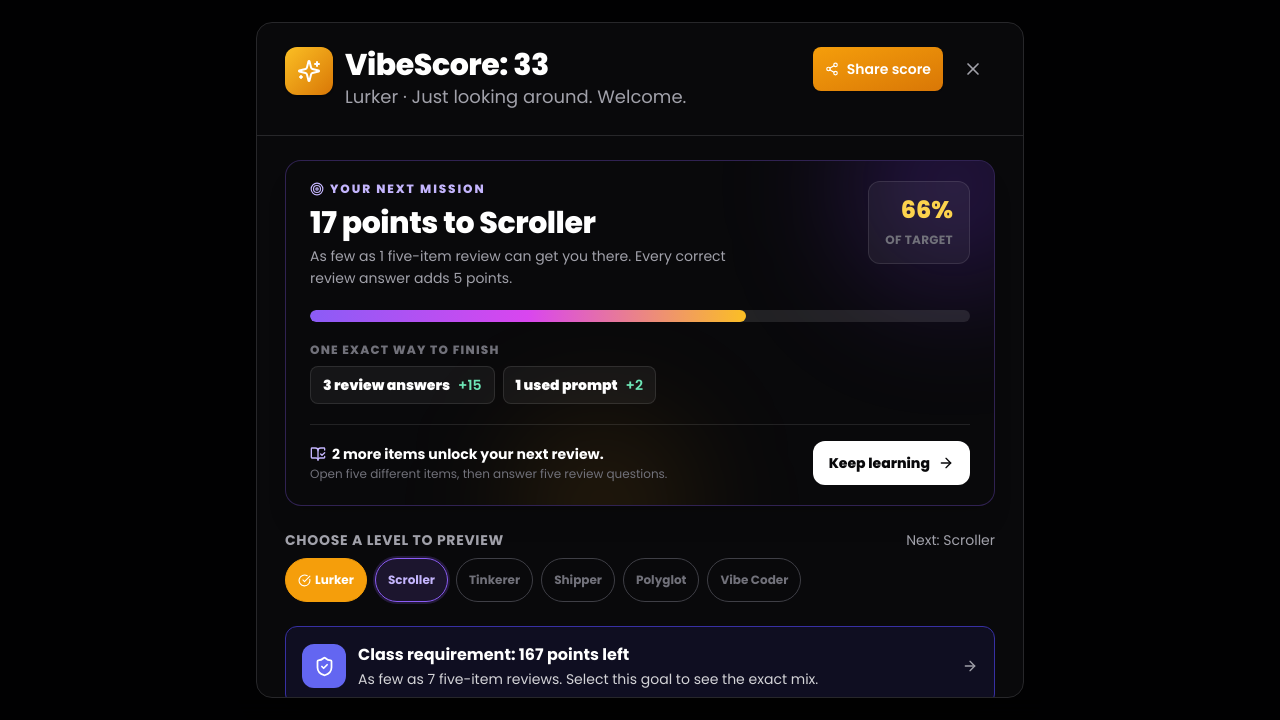
Score progress coach › translates the next level into an exact, interactive mission
This screenshot has width=1280, height=720.
Expected: the heading "17 points to Scroller" is shown, [310,202,595,244]
Expected: the text "As few as 1 five-item review can get you there. Every correct review answer adds 5 points." is shown, [310,246,726,288]
Click the button "Tinkerer".
click(494, 580)  # box [456,558,533,602]
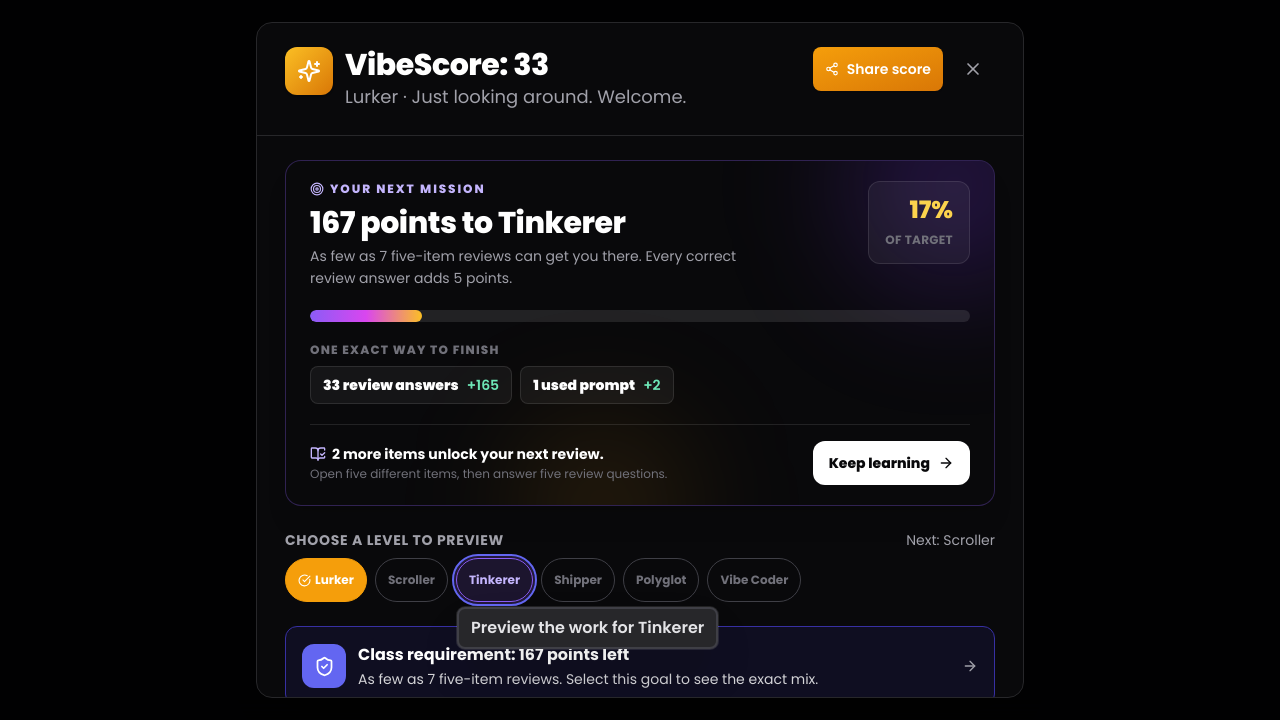
Expected: the text "Class requirement: 167 points left" is shown, [358,643,629,666]
Result: the heading "167 points to Tinkerer" is shown at [310,202,626,244]
Result: the text "33 review answers" is shown at [323,375,459,395]
